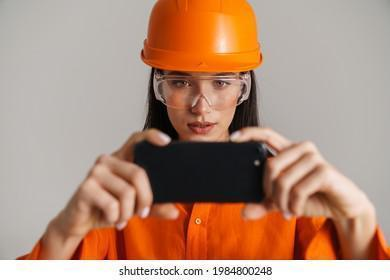helmet: (140, 0, 263, 72)
